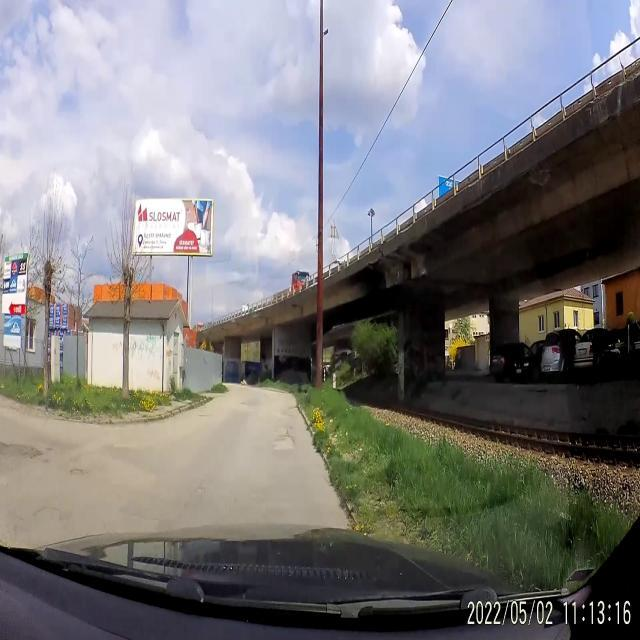Pothole: (0, 440, 44, 465), (271, 433, 296, 452), (69, 466, 89, 480), (238, 396, 252, 408), (196, 410, 212, 420), (198, 482, 208, 496)
